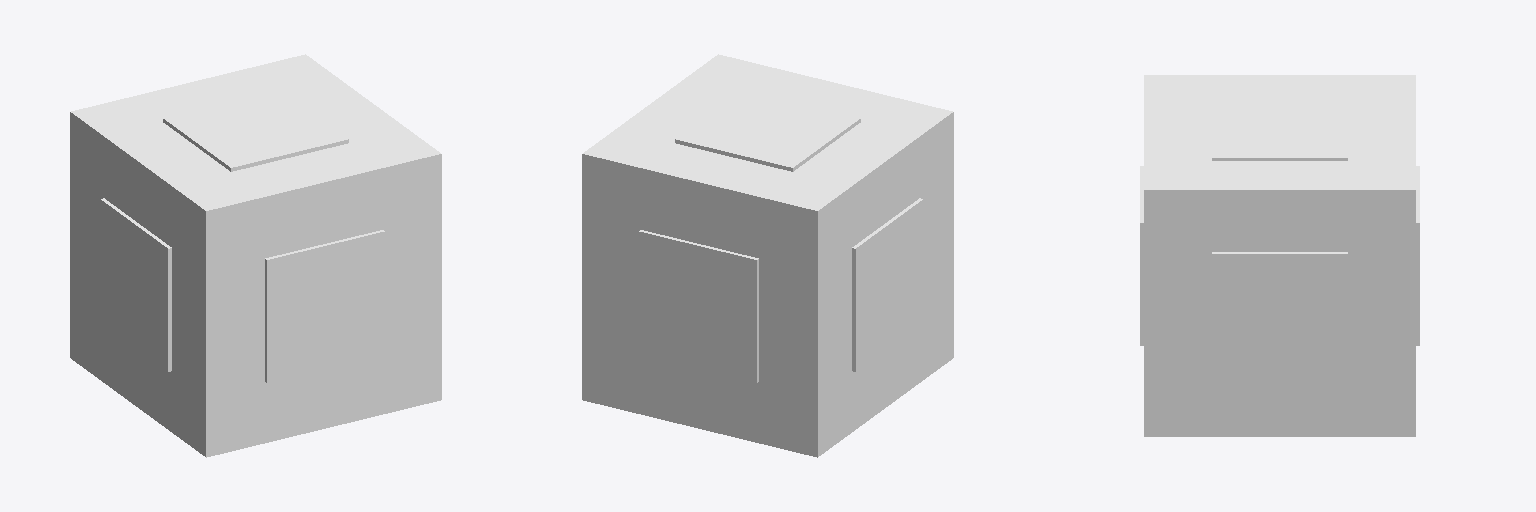
The model's file is trophy.obj.
3 renders of one model, left to right at view 1: azimuth 30°, elevation 25°; view 2: azimuth 150°, elevation 25°; view 3: azimuth 270°, elevation 25°, orthographic.
Visible parts, largest first — view 1: trophy; view 2: trophy; view 3: trophy.
Boxes of the visible parts, x1,y1,x2,y2 form: trophy: [70, 54, 441, 457]; trophy: [582, 54, 953, 457]; trophy: [1140, 75, 1419, 436].
Bounding box in the file's own units: 206 × 206 × 206.